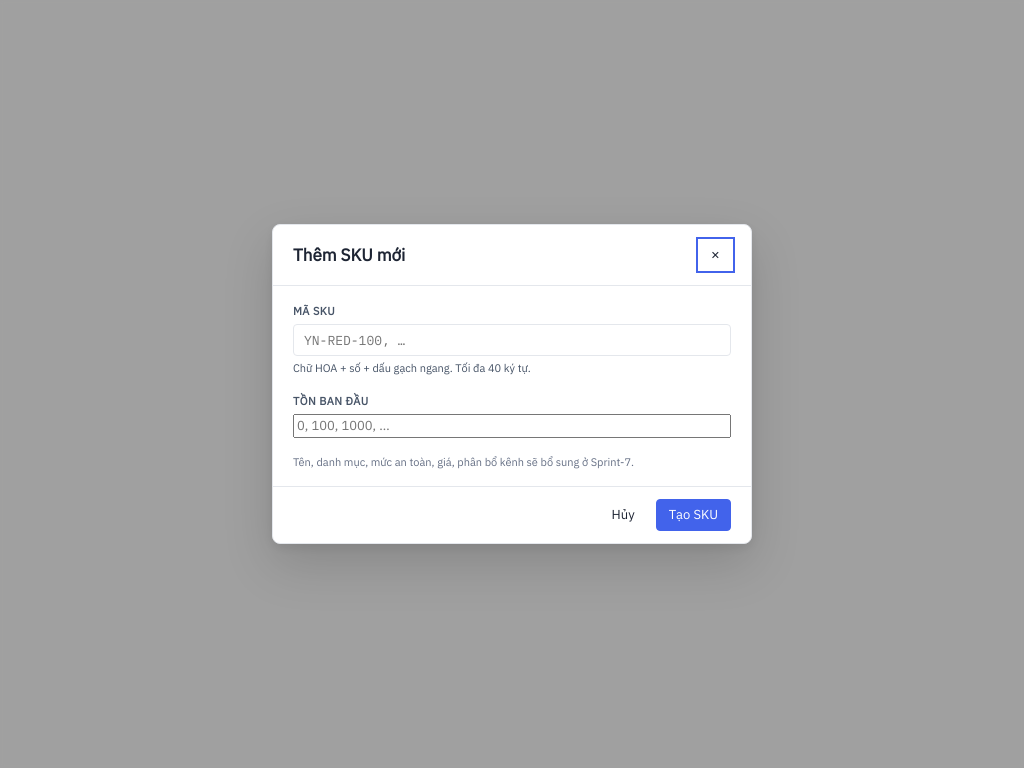
Test case: CreateSkuModal › submitting with negative initialAvailable surfaces a non-negative error
Type "YN-001" into the field with test id "create-sku-sku" at [512, 340], box top-left (293, 324), bottom-right (731, 356)
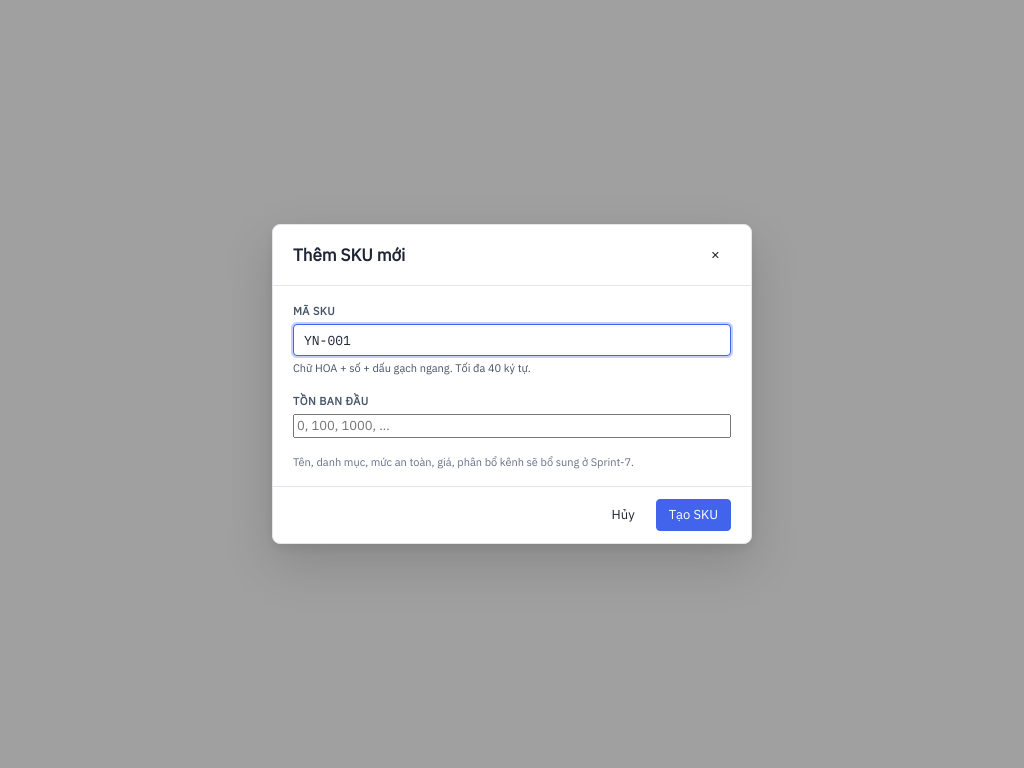
Type "-5" into the number field with test id "create-sku-initial" at [512, 426], box top-left (293, 414), bottom-right (731, 438)
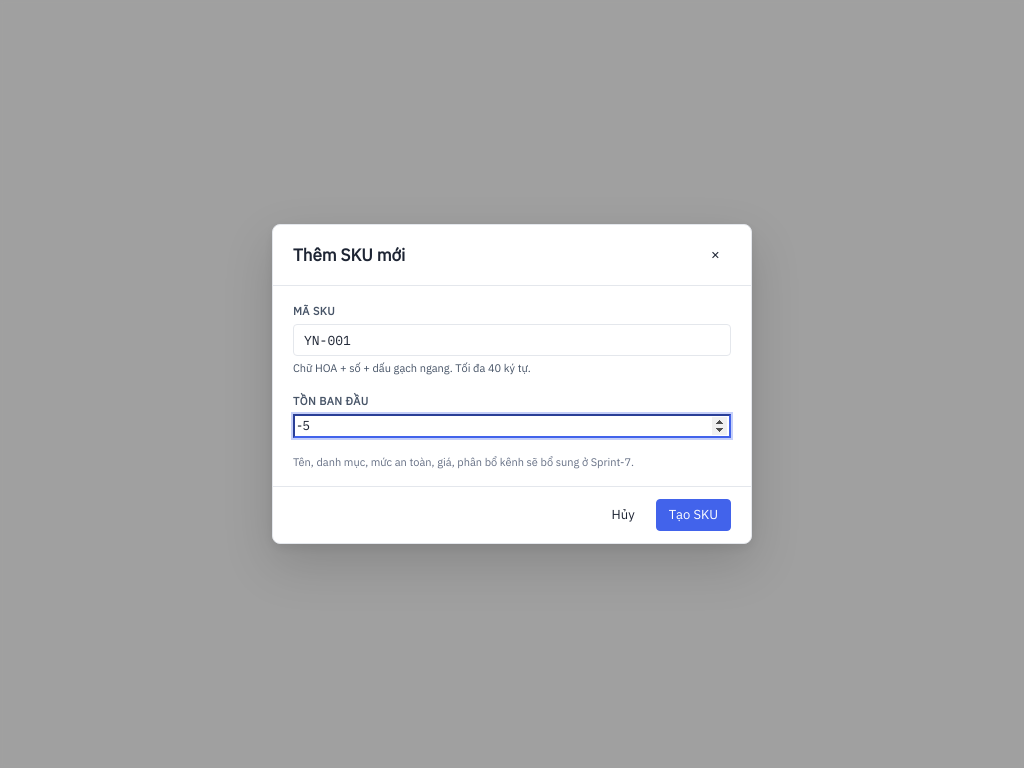
Click the button with test id "create-sku-submit" at [693, 515], box top-left (656, 499), bottom-right (731, 531)
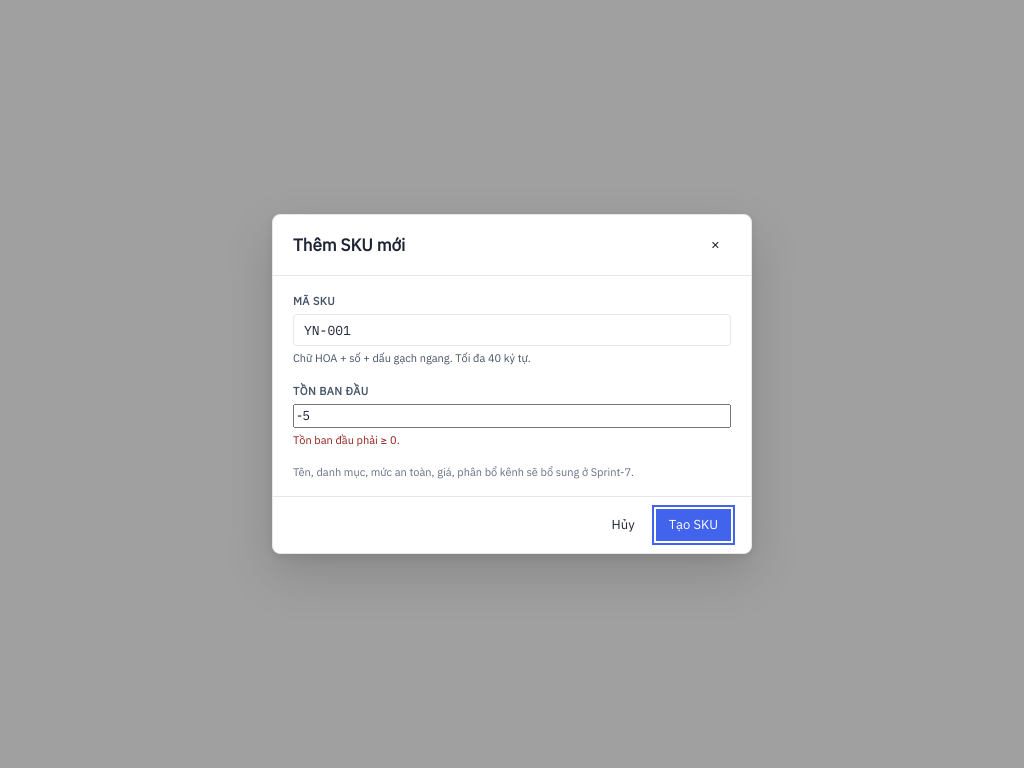
Result: the message with test id "create-sku-initial-error" shows "≥ 0" at top-left (293, 433), bottom-right (400, 447)
